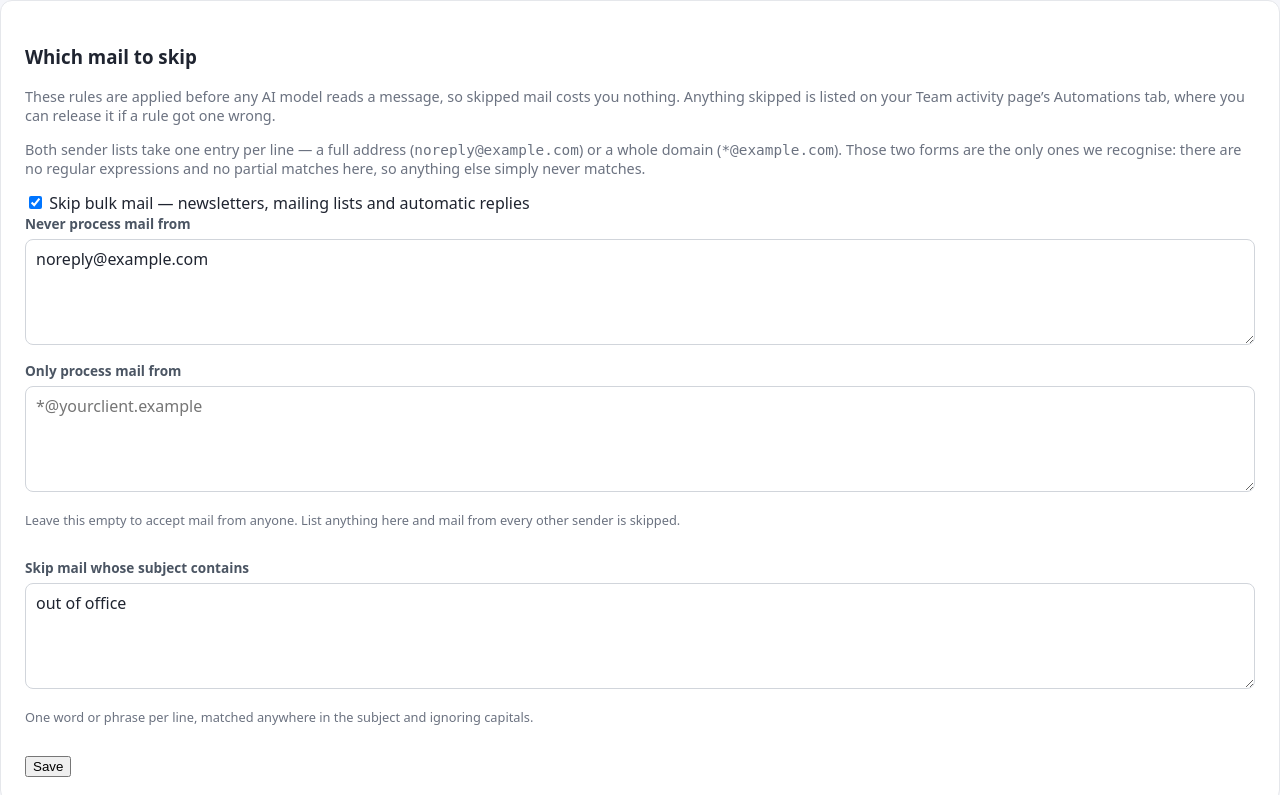
Scenario: EmailFilterSettings › shows the API error instead of pretending it saved
The width and height of the screenshot is (1280, 795).
Click the button "Save". click: coordinates (48, 767)
box: 25,756 -> 71,777
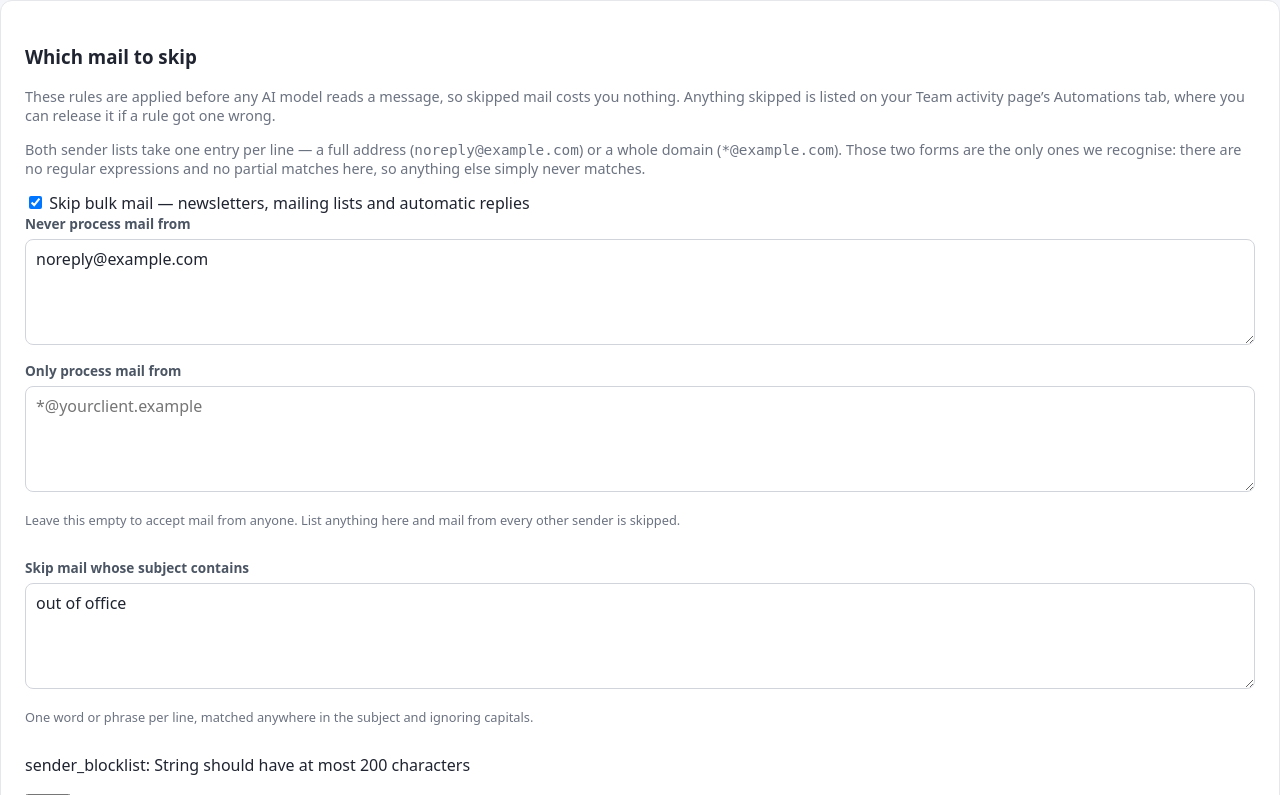
expect the text "sender_blocklist: String should have at most 200 characters" is shown: met, box 25,754 -> 470,776
